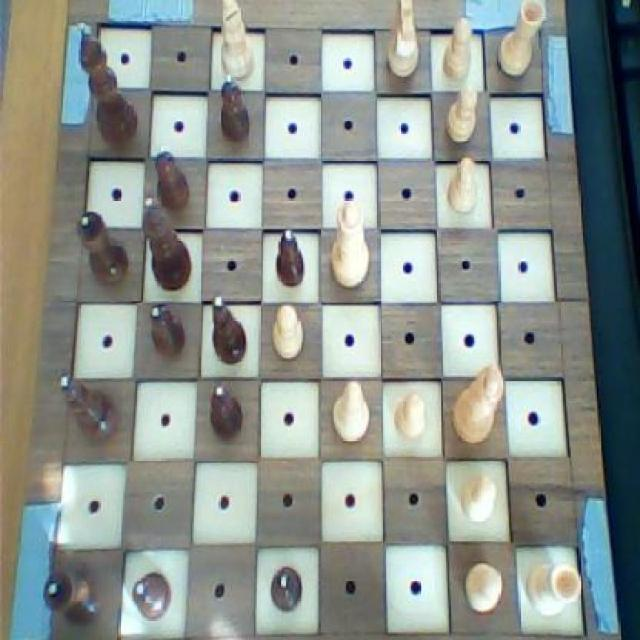bishop: (56, 369, 122, 446), (206, 290, 250, 368)
black-bishop: (74, 18, 141, 150)
black-knight: (150, 138, 194, 214), (217, 71, 254, 147), (272, 224, 308, 292), (128, 568, 174, 620), (266, 563, 306, 616)
black-pawn: (137, 195, 194, 294)
black-queen: (71, 204, 132, 296), (40, 558, 106, 628)
black-rook: (212, 0, 262, 83), (329, 374, 374, 444)
white-bishop: (449, 357, 508, 448)
white-king: (383, 0, 424, 81)
white-knight: (457, 559, 508, 623), (438, 83, 482, 155), (437, 14, 479, 85), (456, 468, 500, 528), (442, 153, 481, 220), (268, 302, 307, 366), (389, 388, 430, 444)
white-pawn: (326, 191, 374, 292)
white-queen: (492, 0, 547, 85), (520, 555, 585, 624)
